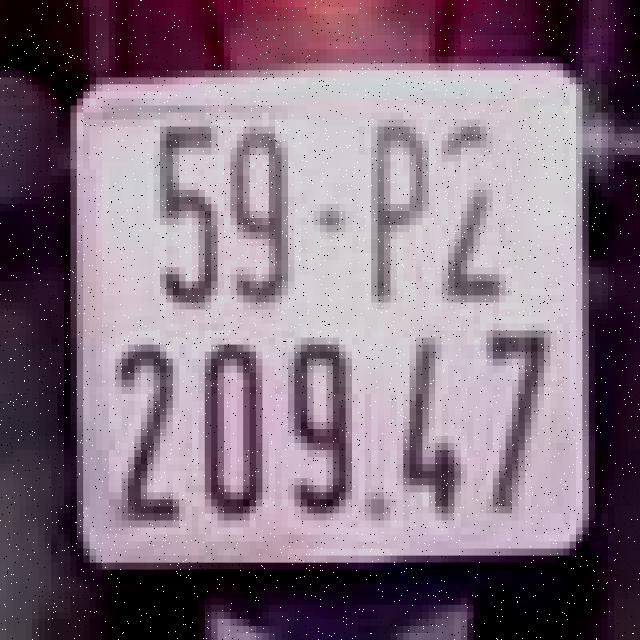0: (198, 334, 269, 524)
2: (438, 102, 516, 320), (112, 334, 195, 538)
4: (394, 327, 476, 524)
5: (141, 105, 224, 324)
7: (476, 316, 554, 520)
9: (278, 330, 362, 534), (218, 120, 300, 310)
P: (346, 105, 435, 324)
